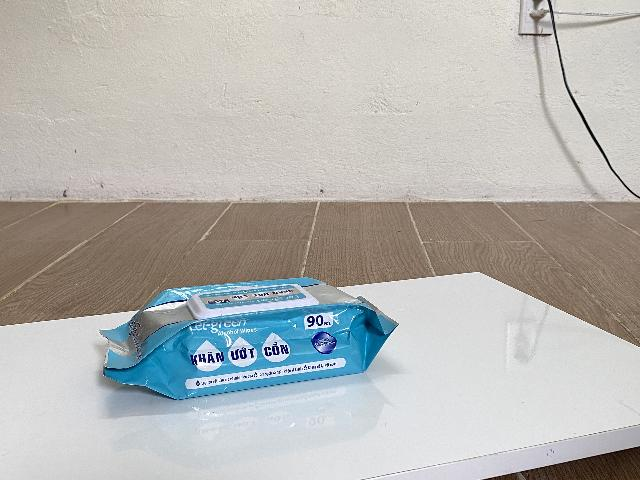Let-green_alcohol_wipes: (98, 277, 399, 400)
